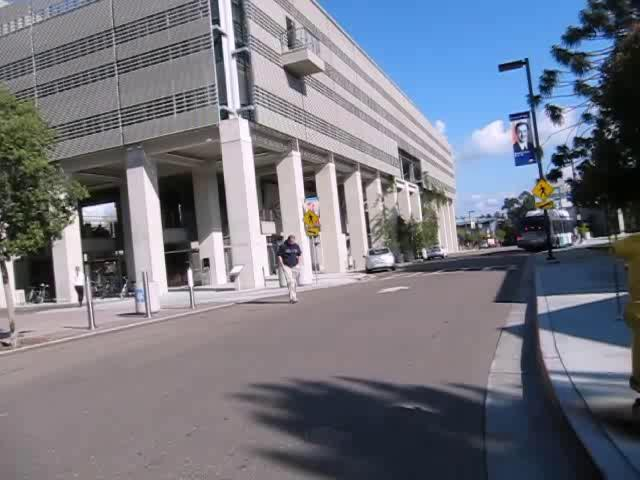pedestrianCrossing: (531, 178, 554, 202)
